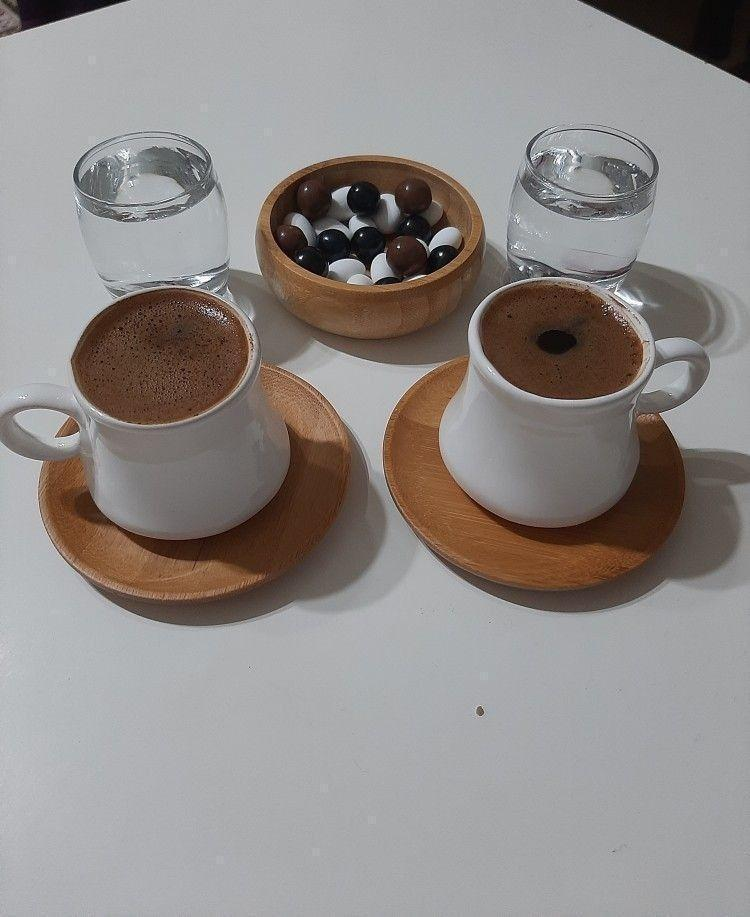cup-handle: (1, 286, 293, 543), (436, 275, 712, 534)
glass-normal: (68, 127, 236, 297), (499, 123, 663, 281)
